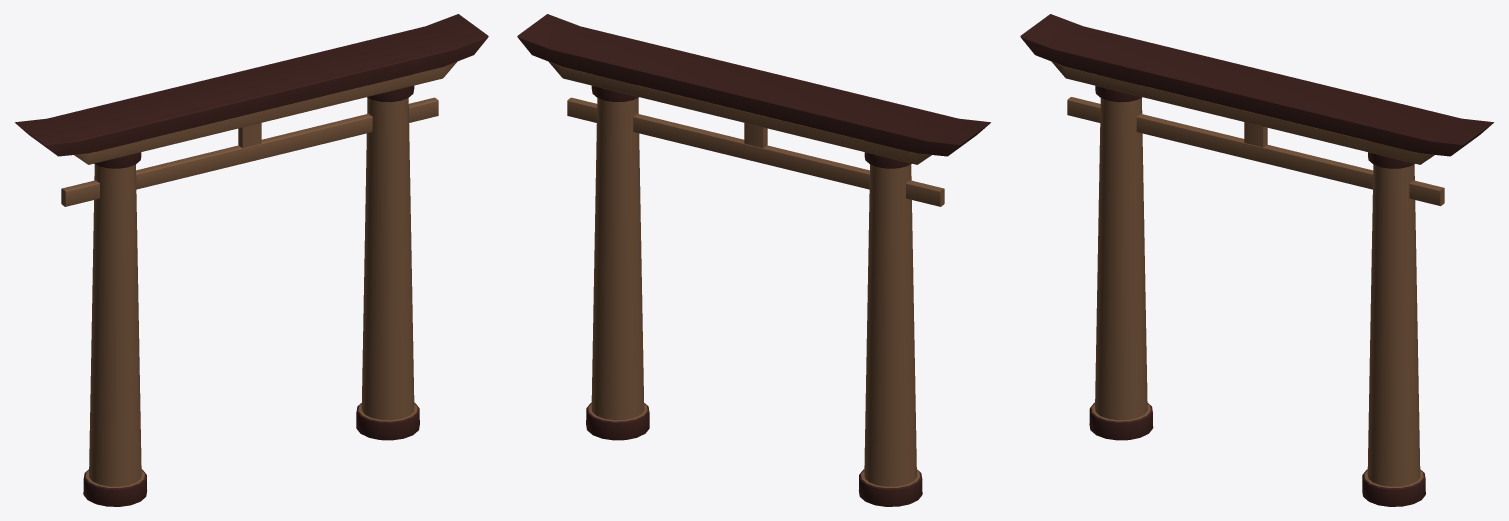
File: Torii_1.fbx
3 views of the same model, side by side, from view 1: azimuth 30°, elevation 25°; view 2: azimuth 150°, elevation 25°; view 3: azimuth 330°, elevation 25° (orthographic).
Parts seen in each view (by area): view 1: Torii_1; view 2: Torii_1; view 3: Torii_1.
Boxes of the visible parts, x1=… form: Torii_1: x1=15, y1=14, x2=488, y2=506; Torii_1: x1=517, y1=14, x2=990, y2=506; Torii_1: x1=1020, y1=14, x2=1493, y2=506.
Size of the model in its own units: 11172 by 9176 by 1400.
